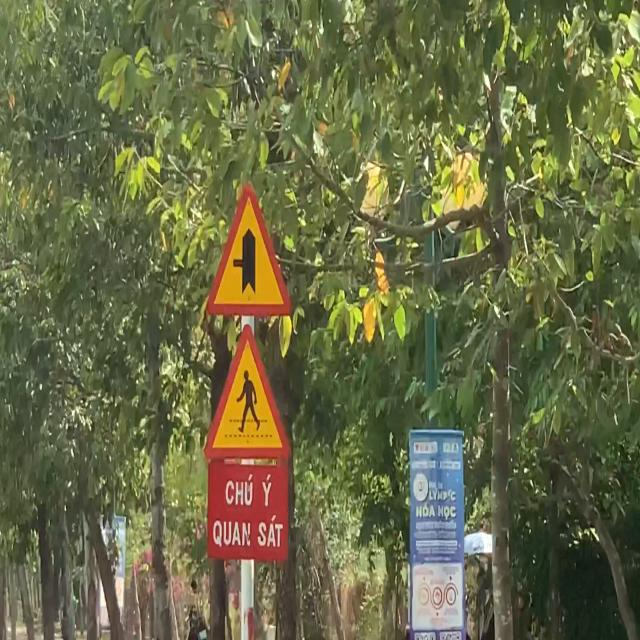Giao voi duong khong uu tien: (205, 180, 295, 316)
Nguoi di bo cat ngang: (204, 324, 294, 461)
